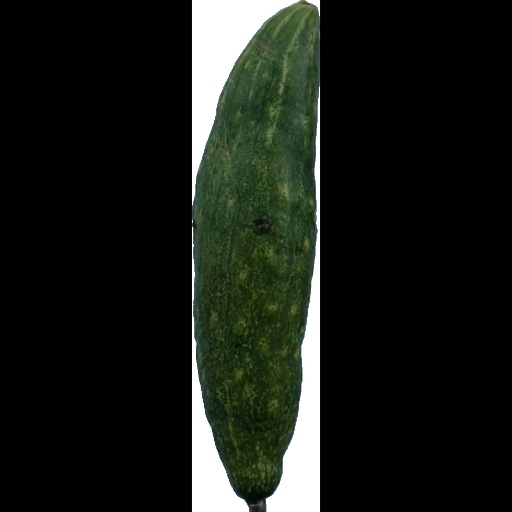concombre: (192, 1, 319, 512)
